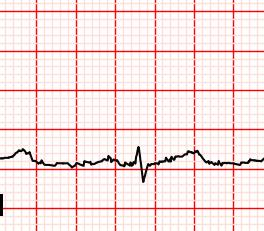LVH: (167, 145, 211, 166)
Poor R Progression: (131, 144, 146, 167)
ST Depression: (130, 160, 152, 186)
